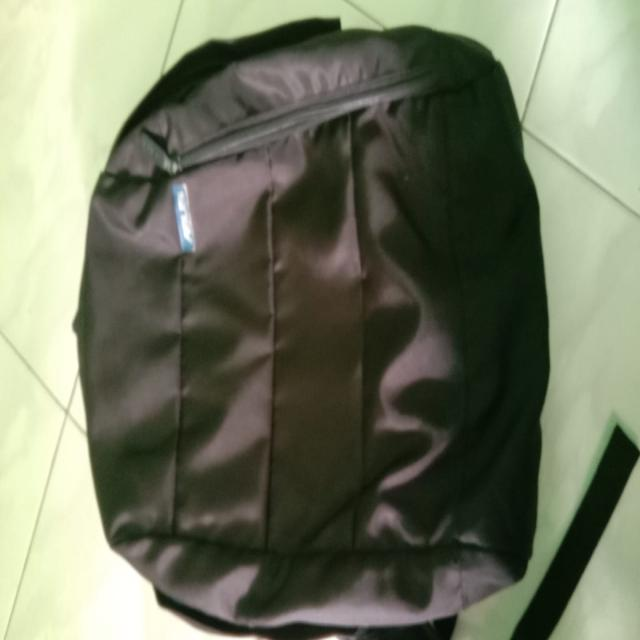tas: (48, 12, 606, 640)
